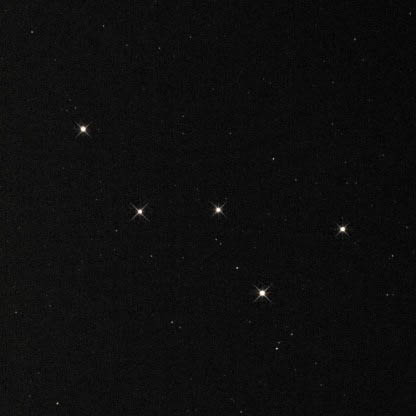Cassiopeia: (223, 260, 276, 307), (127, 195, 160, 230), (70, 116, 93, 148), (333, 222, 361, 243), (208, 197, 225, 224)
